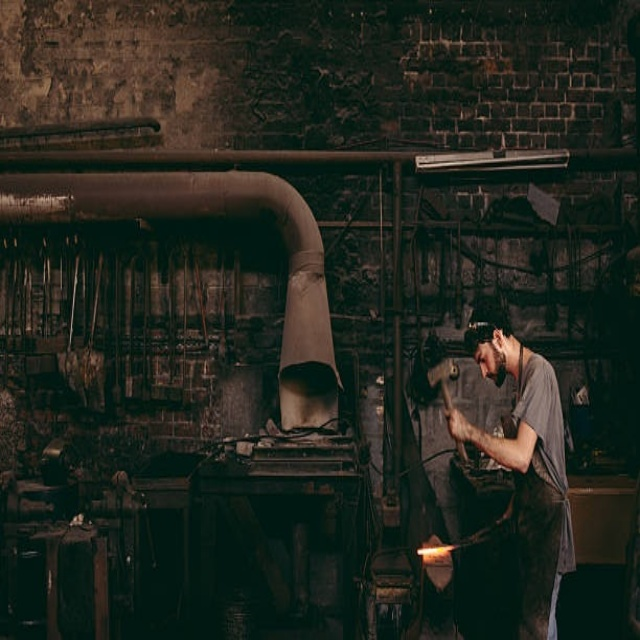Sin_gafas: (477, 347, 490, 367)
Sin_guantes: (444, 405, 473, 445)
Sin_mascara: (485, 370, 496, 380)
